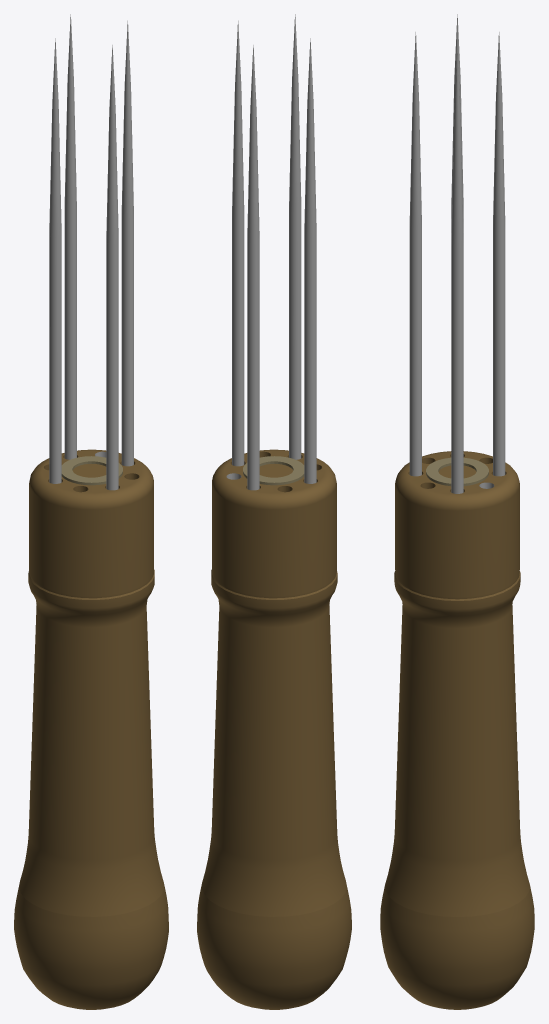
File: WeaponFBX.fbx
3 views of the same model, side by side, from view 1: azimuth 30°, elevation 25°; view 2: azimuth 150°, elevation 25°; view 3: azimuth 270°, elevation 25° (orthographic).
Visible parts, largest first — view 1: HandlePolySurface, Needle, Needle3, Needle2, Needle1, RingAtTop; view 2: HandlePolySurface, Needle1, Needle3, Needle2, Needle, RingAtTop; view 3: HandlePolySurface, Needle, Needle1, Needle3, RingAtTop, Needle2.
Boxes of the visible parts, left/top/right/bottom form: HandlePolySurface: left=14, top=449, right=168, bottom=1009; Needle: left=106, top=45, right=118, bottom=490; Needle3: left=121, top=20, right=133, bottom=466; Needle2: left=49, top=38, right=61, bottom=483; Needle1: left=64, top=14, right=76, bottom=459; RingAtTop: left=61, top=456, right=122, bottom=485; HandlePolySurface: left=197, top=449, right=351, bottom=1009; Needle1: left=247, top=45, right=259, bottom=490; Needle3: left=232, top=20, right=244, bottom=466; Needle2: left=304, top=38, right=316, bottom=483; Needle: left=289, top=14, right=301, bottom=459; RingAtTop: left=243, top=456, right=304, bottom=485; HandlePolySurface: left=380, top=451, right=534, bottom=1009; Needle: left=409, top=32, right=421, bottom=476; Needle1: left=493, top=32, right=505, bottom=476; Needle3: left=451, top=49, right=463, bottom=493; RingAtTop: left=426, top=457, right=488, bottom=486; Needle2: left=451, top=14, right=463, bottom=232.
Size of the model in its own units: 2.45 by 16.91 by 2.45.
